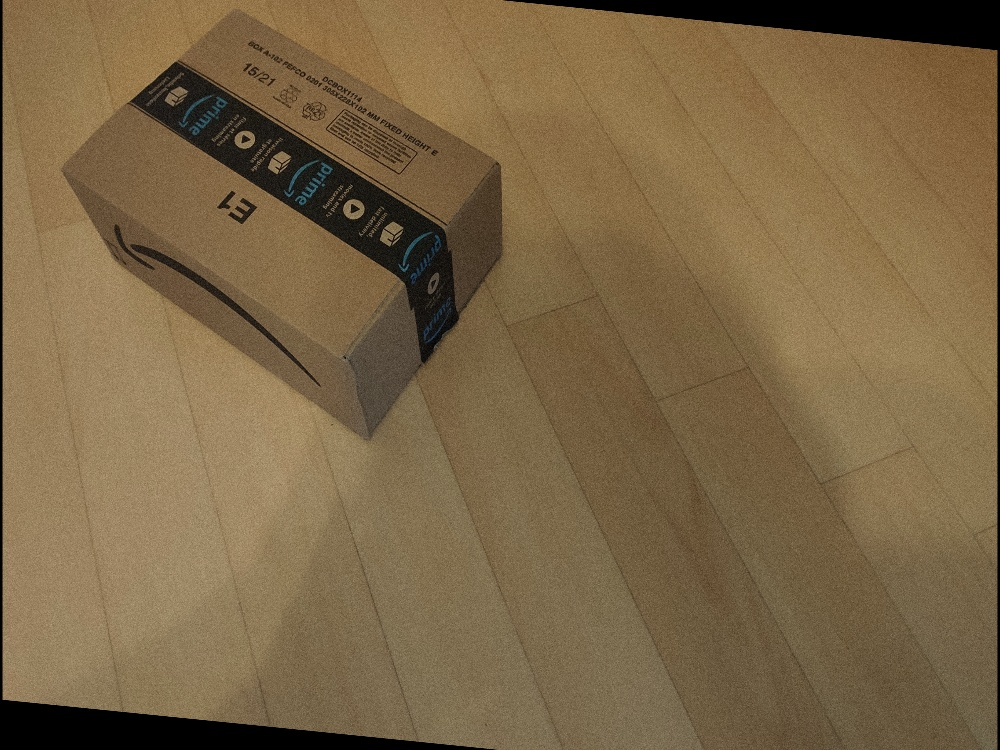good-parcel: (53, 0, 527, 437)
